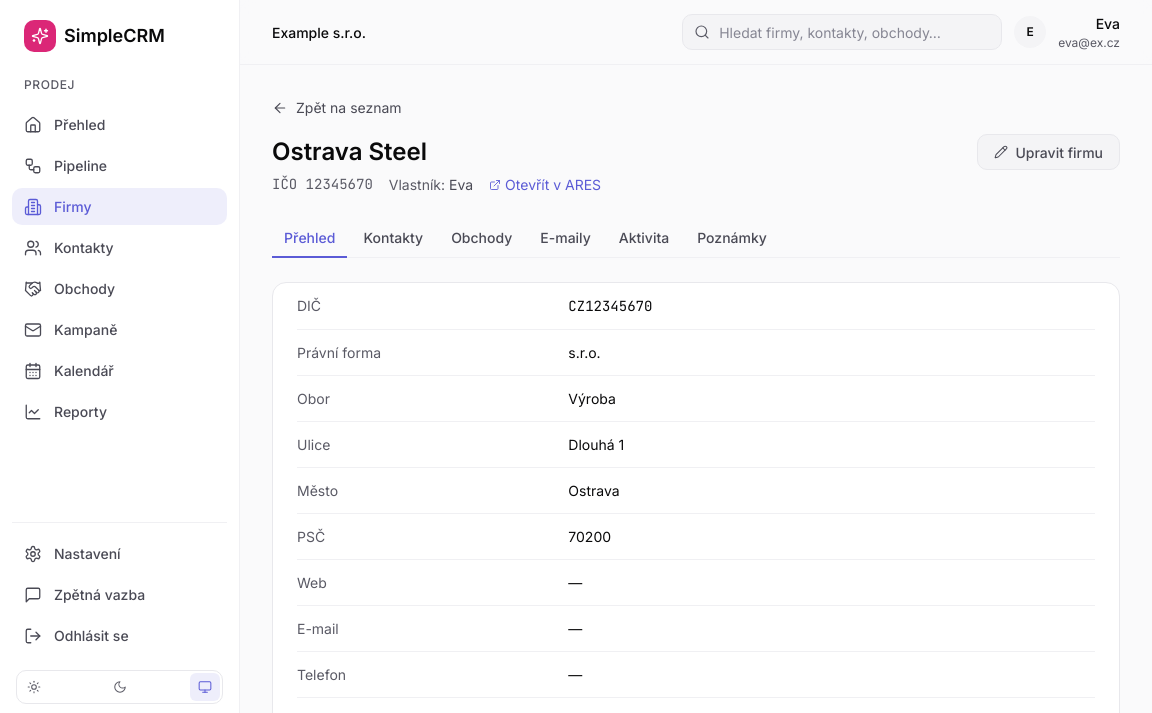
Test: EditCompanyModal › hides the owner control from salespeople
Step 1. Click the button with test id "companies-edit-button" → (1048, 152), box [976,134,1120,170]
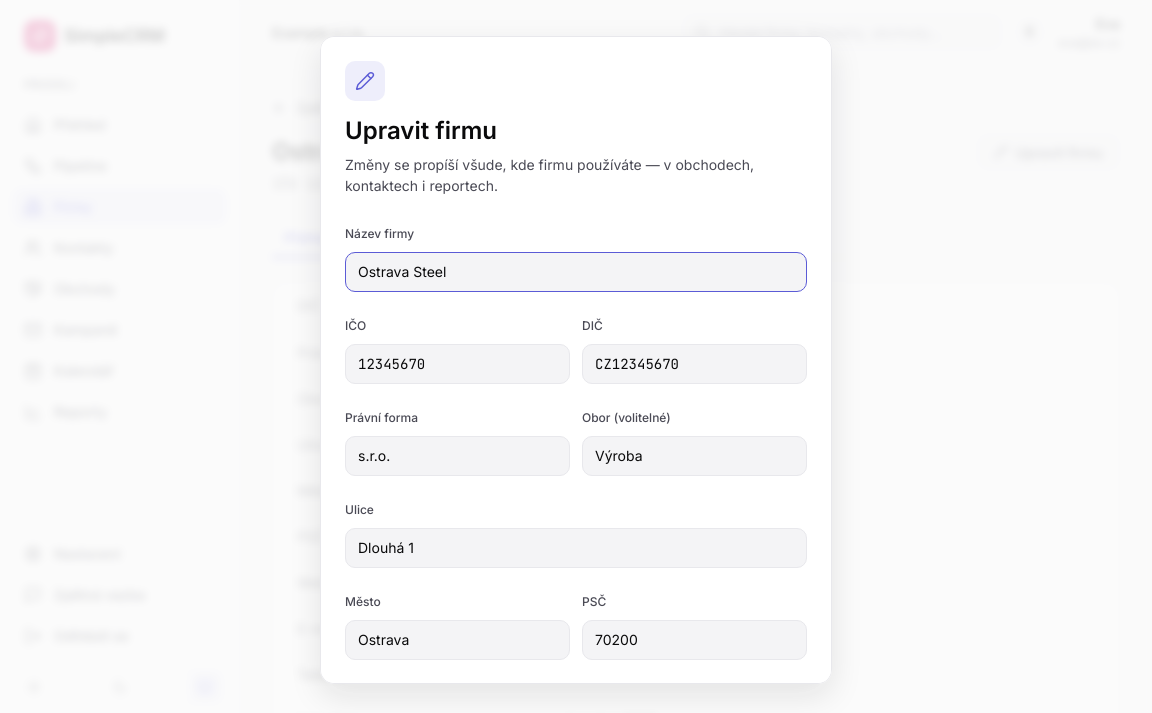
expect the field with test id "companies-edit-modal-name" is shown: met, box [345,252,807,292]
